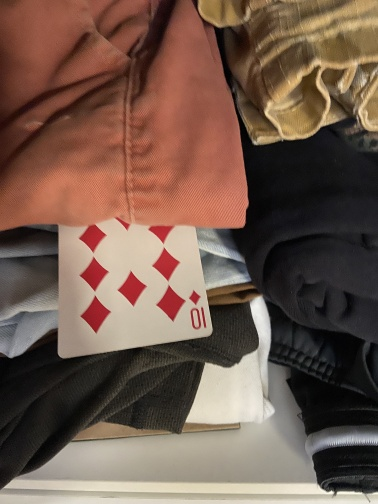ten: (51, 147, 215, 361)
